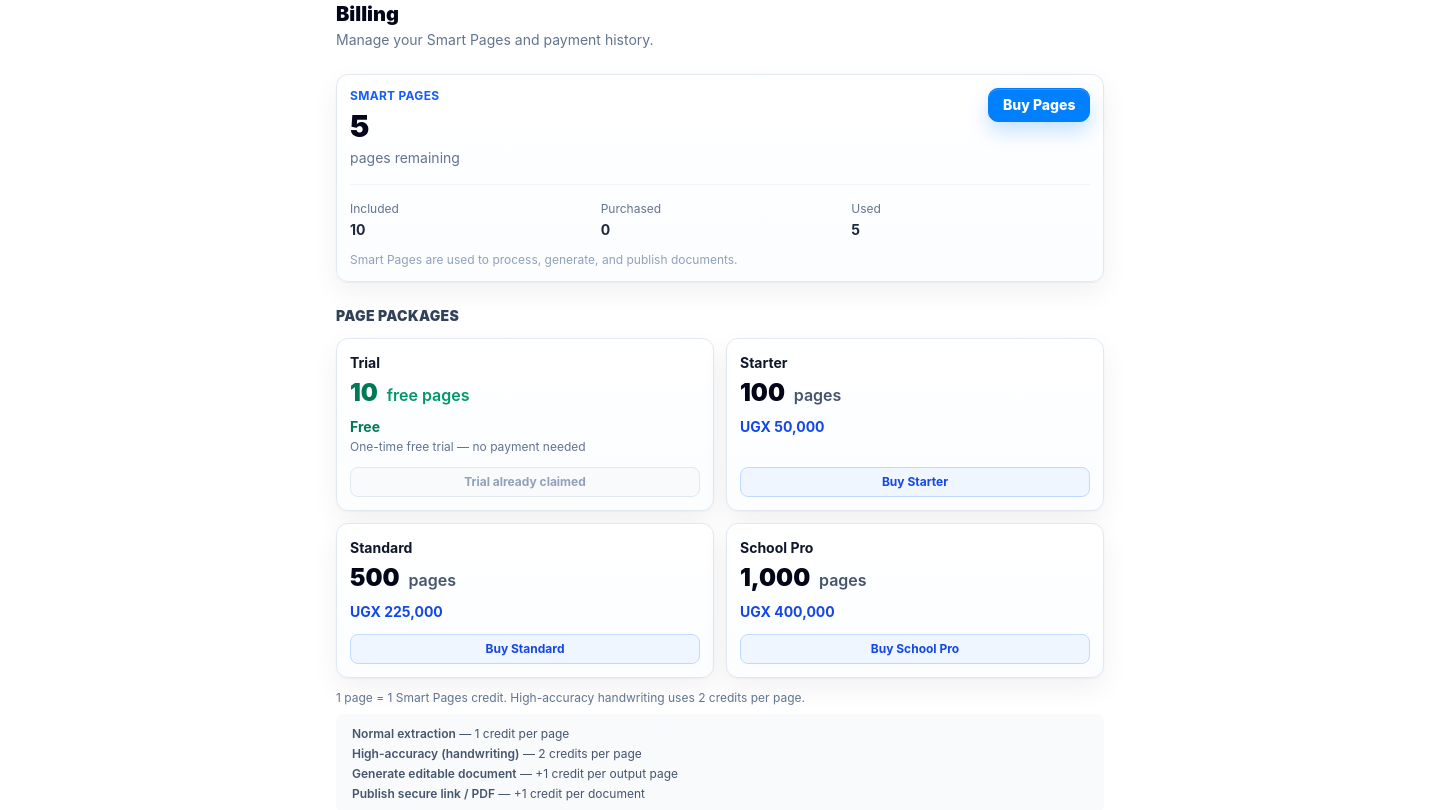
Scenario: Buy pages flow › buying a package opens the payment modal
Click the button "Buy Pages".
click(1039, 105)  # box [988,88,1090,122]
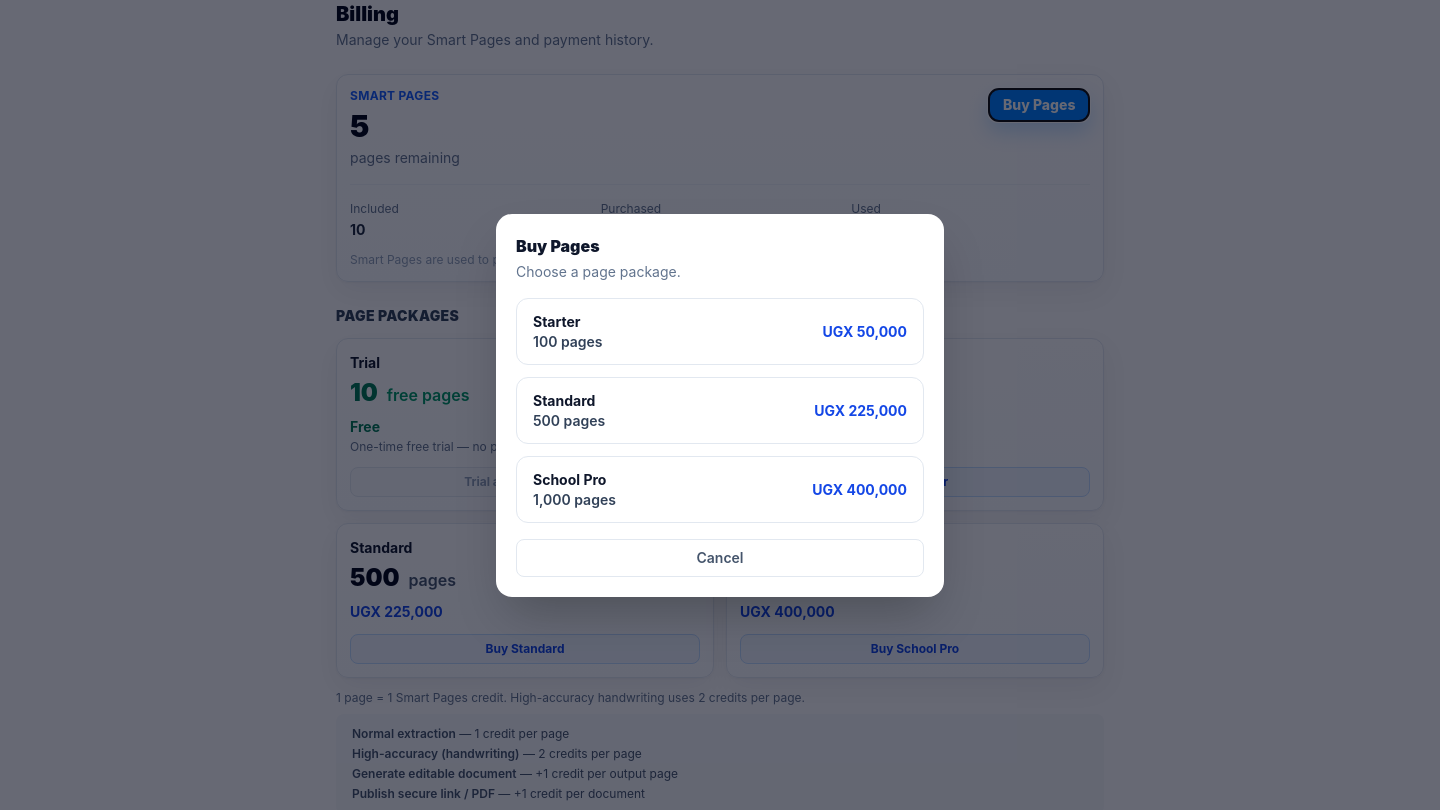
Expected: the text "Choose a page package." is shown, [516,262,681,280]
